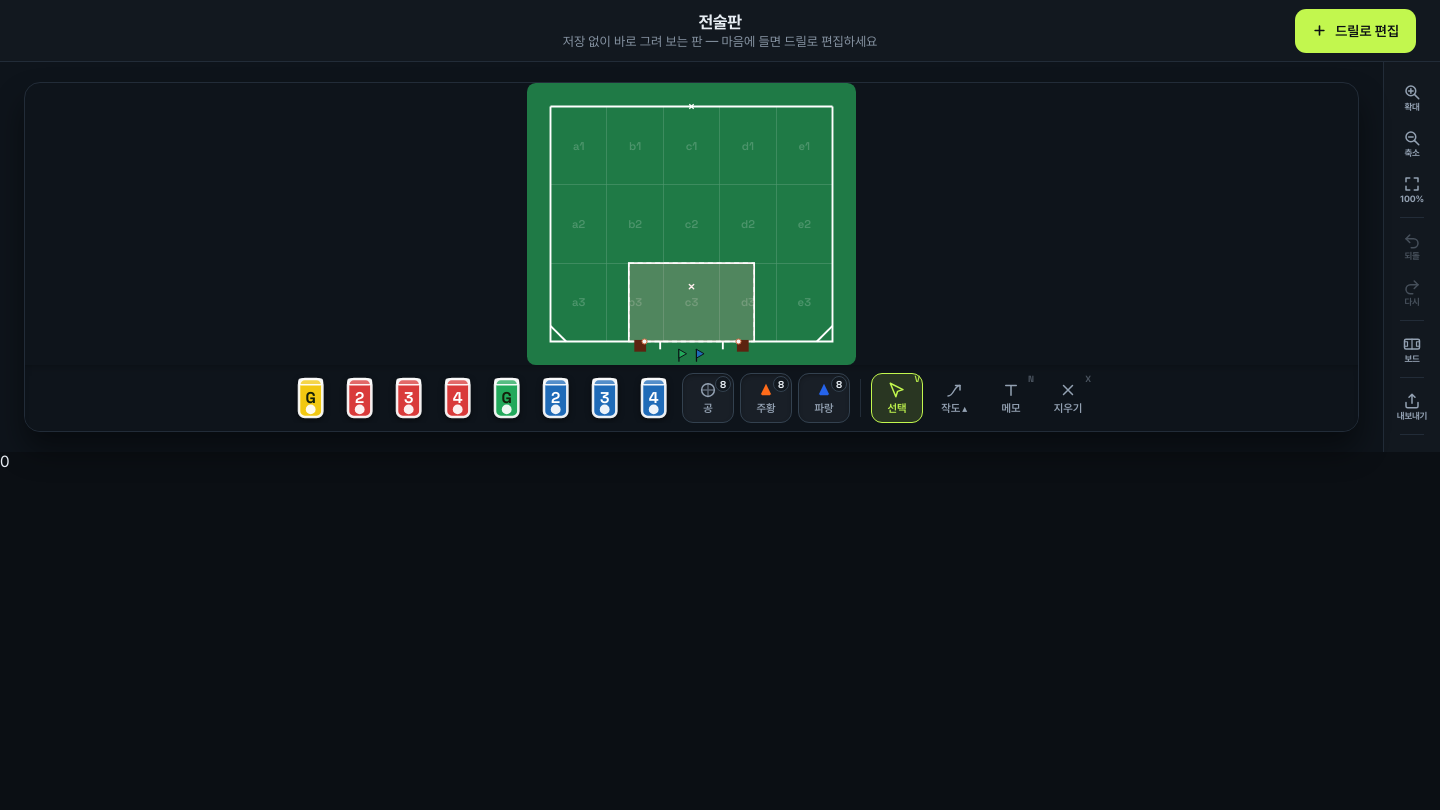
[드릴로 편집] — 전술판을 정식 드릴로 승격 (2026-09-03 까지는 기능 바의 [드릴로 저장]) › 저장소에 드릴이 생기고, 전술판은 그대로 남는다
Check: the navigation bar named "도구" is shown, box [25,365,1358,431]
2026-08-28 — [저장]은 곧바로 저장하지 않는다. 이름을 묻고, 판의 제목이 실려 있다.
Click the button "드릴로 편집".
click(1356, 30)  # box [1295,8,1416,52]
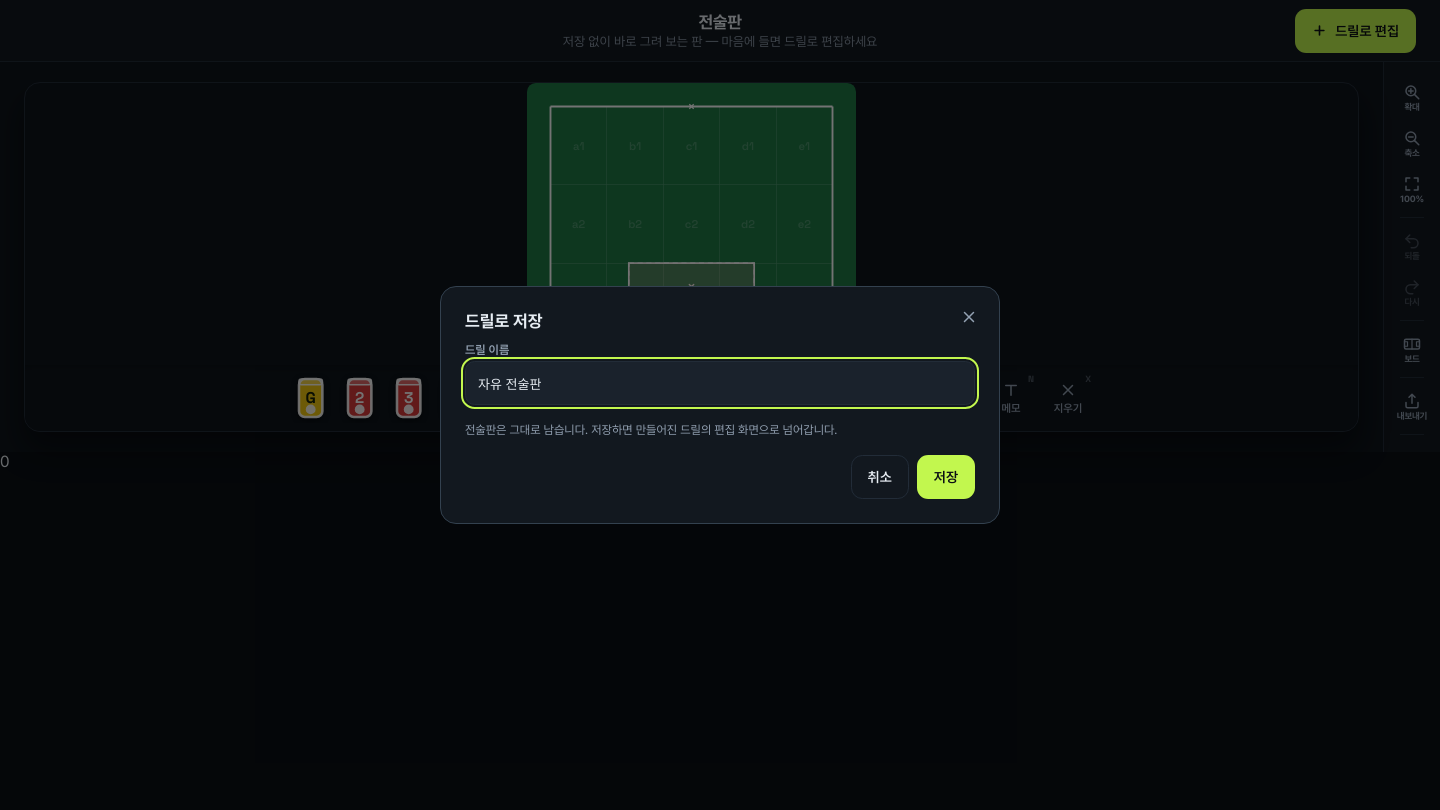
Check: the field labelled "드릴 이름" holds "자유 전술판", box [465,361,975,405]
Click the button "저장".
click(946, 477)  # box [917,455,975,499]
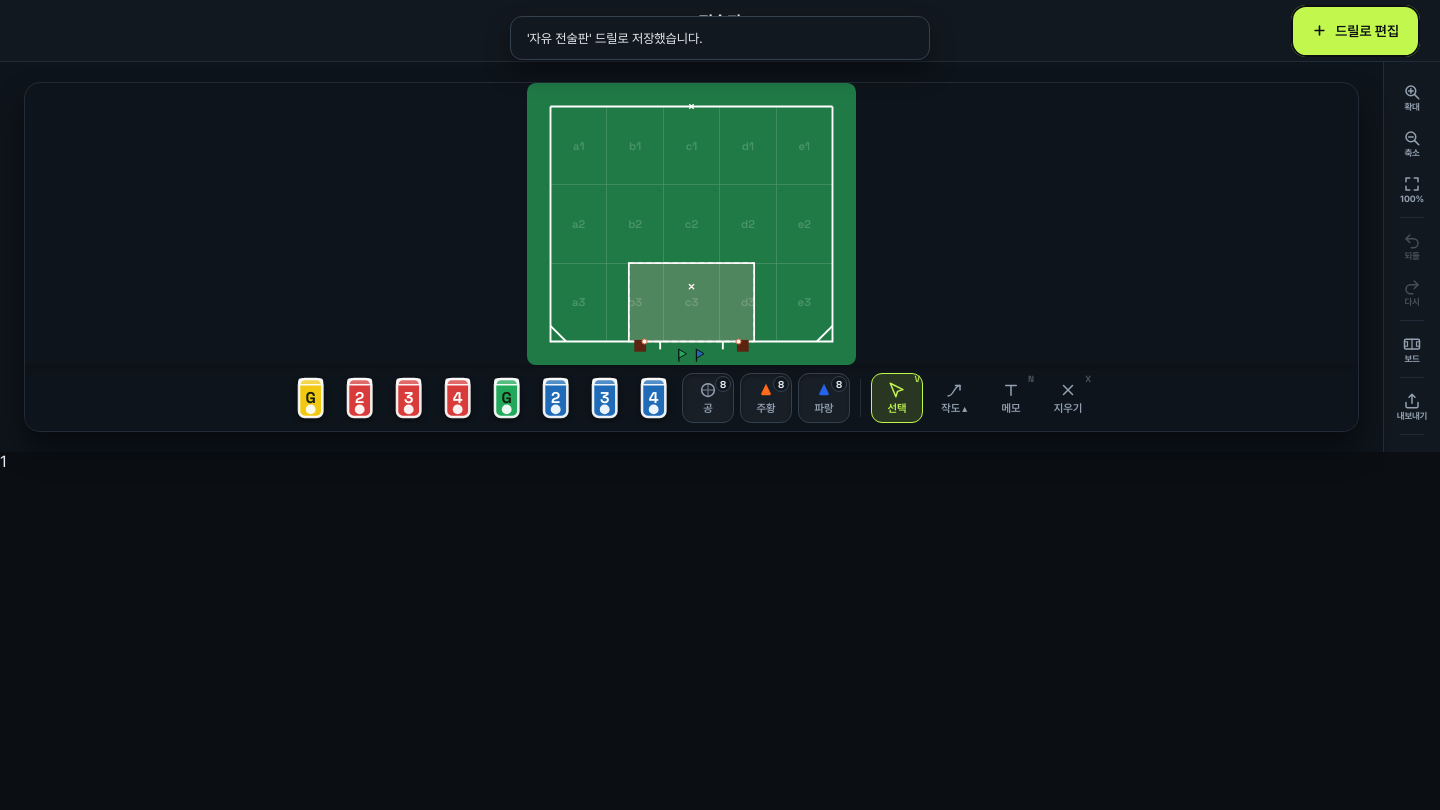
Check: the icon named "코트 편집 영역" is shown, box [527,83,856,365]
Check: the text "'자유 전술판' 드릴로 저장했습니다." is shown, box [527,30,703,46]
